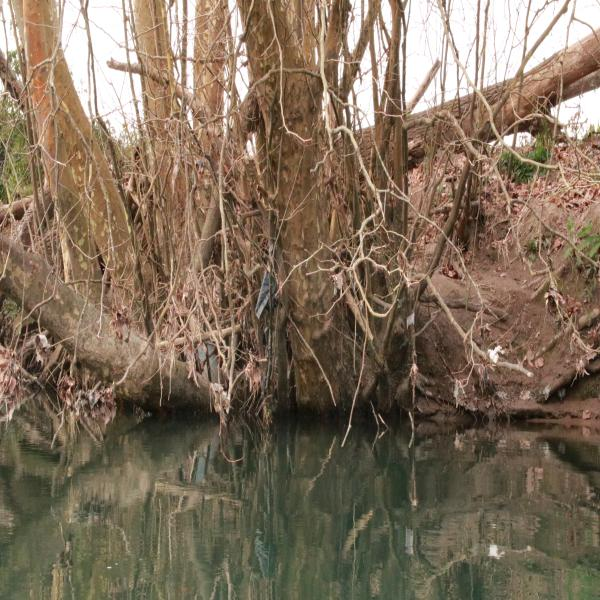fragments: (254, 266, 278, 321)
others: (487, 344, 502, 364), (453, 380, 462, 410), (406, 313, 415, 326)
